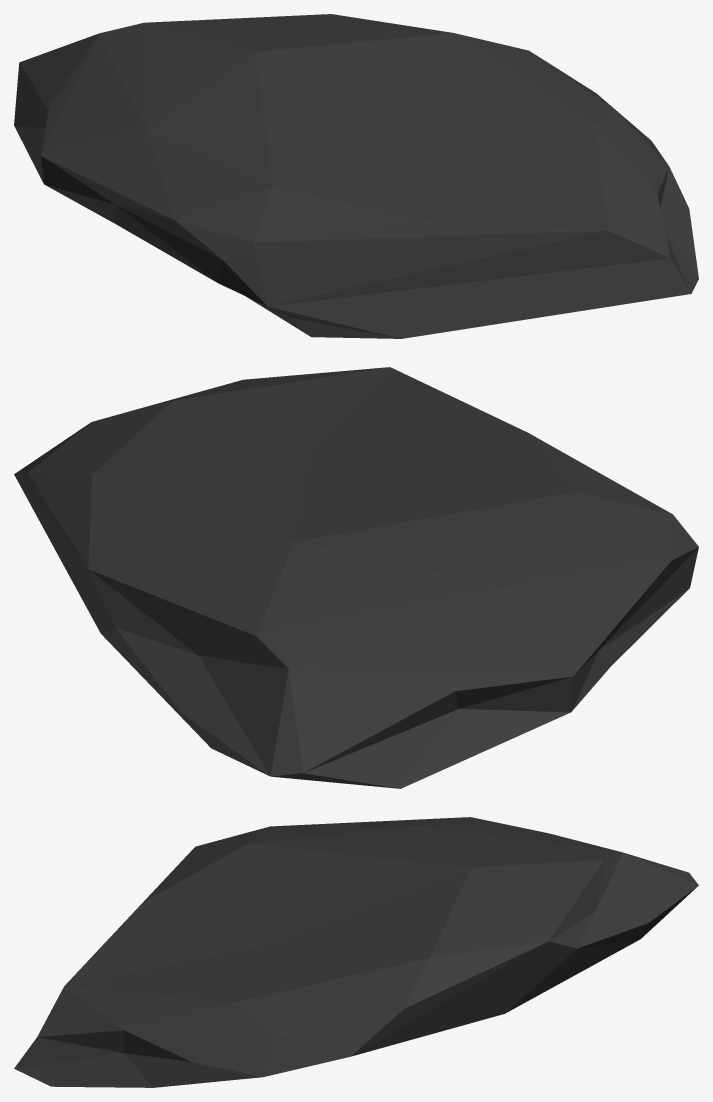
Rendered from pedra2.fbx.
3 views of the same model, one above another, from view 1: azimuth 30°, elevation 25°; view 2: azimuth 150°, elevation 25°; view 3: azimuth 270°, elevation 25° (orthographic). The views are drawn at different scales.
Visible parts, largest first — view 1: pedra2; view 2: pedra2; view 3: pedra2.
Boxes of the visible parts, x1,y1,x2,y2 form: pedra2: (14,14,698,338); pedra2: (14,367,698,788); pedra2: (14,817,698,1087).
Bounding box in the file's own units: 386 × 100 × 478.
